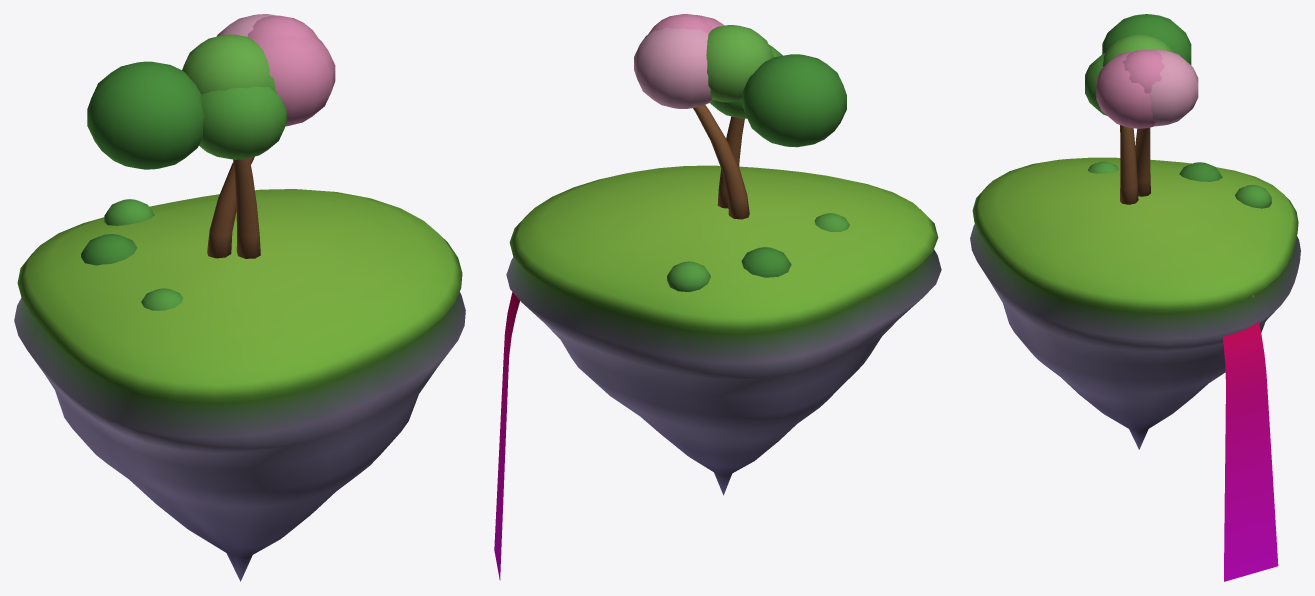
Rendered from insulita_cascada_a.glb.
The picture shows the model from 3 angles, left to right: view 1: azimuth 30°, elevation 25°; view 2: azimuth 150°, elevation 25°; view 3: azimuth 270°, elevation 25°; orthographic projection. The views are drawn at different scales.
Visible parts, largest first — view 1: Corp; view 2: Corp, Cascada; view 3: Corp, Cascada.
Part boxes in pixels (box(x1,y1,x2,y2)): Corp: box(14, 14, 465, 581); Corp: box(506, 14, 941, 495); Cascada: box(494, 273, 529, 580); Corp: box(970, 14, 1300, 449); Cascada: box(1222, 295, 1278, 581).
Size of the model in its own units: 5.14 by 7.49 by 4.81.
